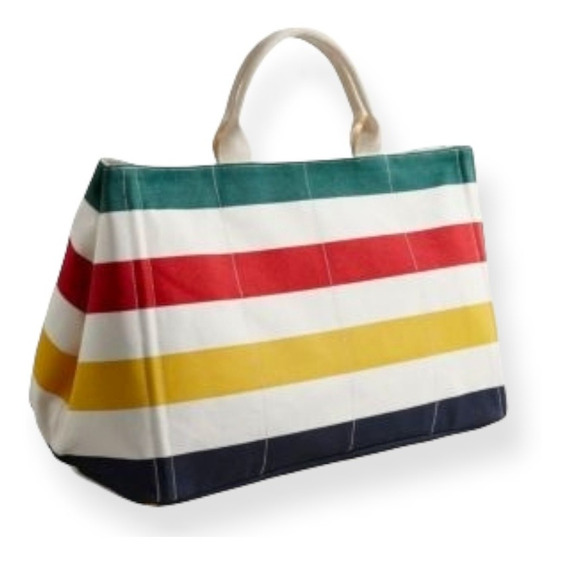cartera: (28, 27, 509, 507)
